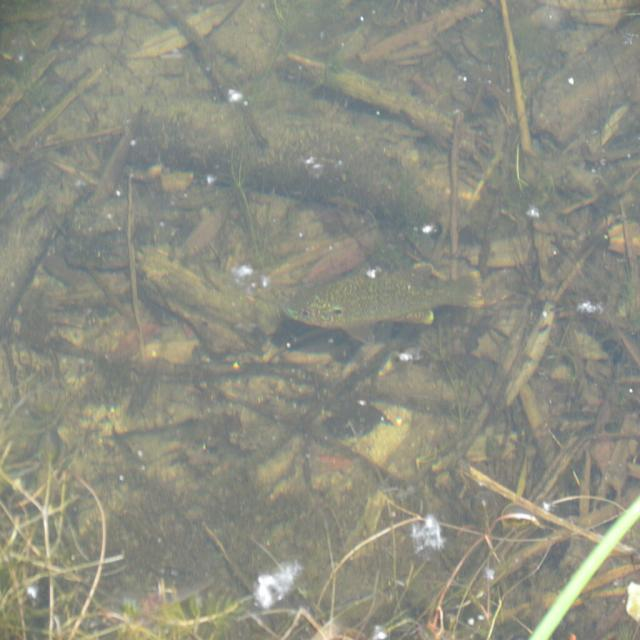Gunes Levregi: (280, 262, 488, 346)
